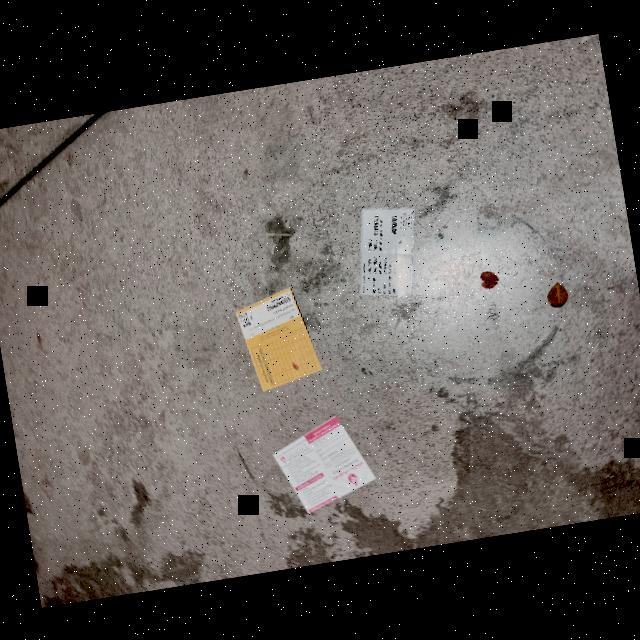scrap_paper: (262, 407, 378, 523), (226, 278, 332, 398), (339, 187, 428, 320)
